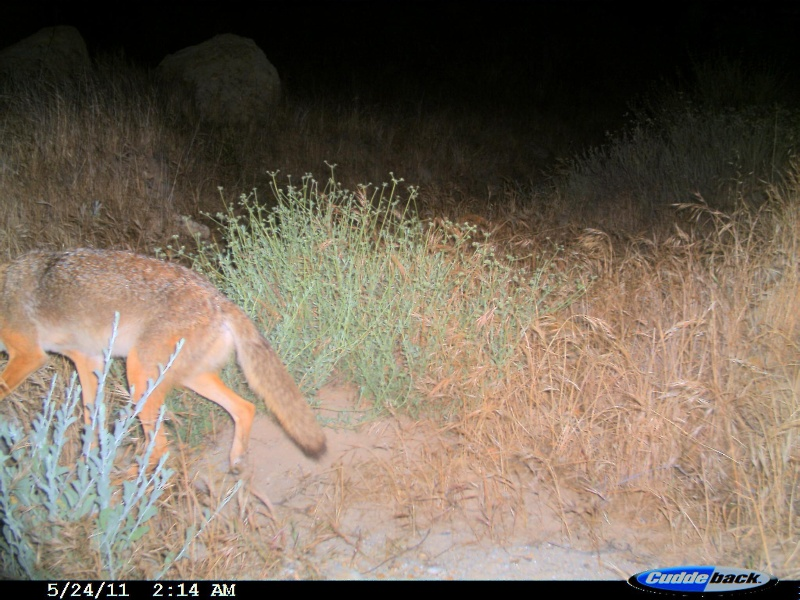coyote: (1, 234, 335, 489)
